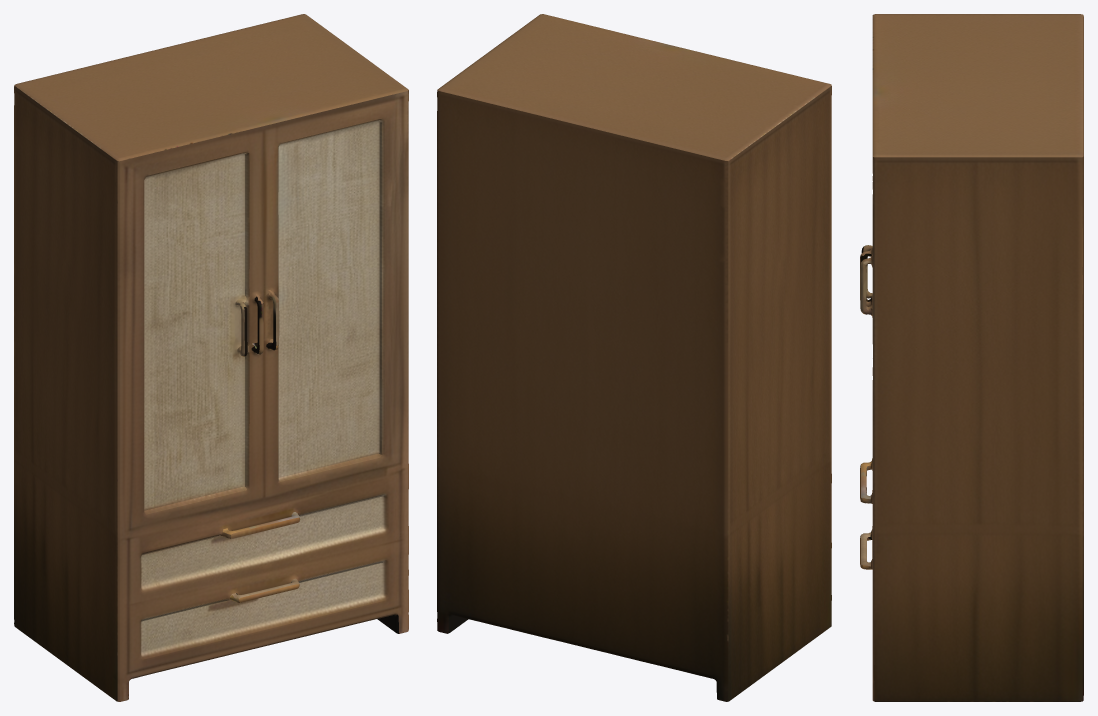
The model's file is wardrobe__wardrobe#2.glb.
3 renders of one model, left to right at view 1: azimuth 30°, elevation 25°; view 2: azimuth 150°, elevation 25°; view 3: azimuth 270°, elevation 25°, orthographic.
Visible parts, largest first — view 1: tmpdhlwq956.ply; view 2: tmpdhlwq956.ply; view 3: tmpdhlwq956.ply.
Part boxes in pixels (x1,y1,x2,y2): tmpdhlwq956.ply: (14,14,408,701); tmpdhlwq956.ply: (437,14,831,701); tmpdhlwq956.ply: (860,14,1083,701).
Size of the model in its own units: 1.12 by 1.99 by 0.7387.
Materials: 1 (1 with a texture image).
